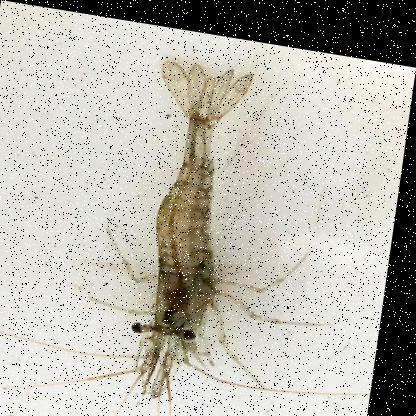shrimp: (83, 41, 365, 415)
